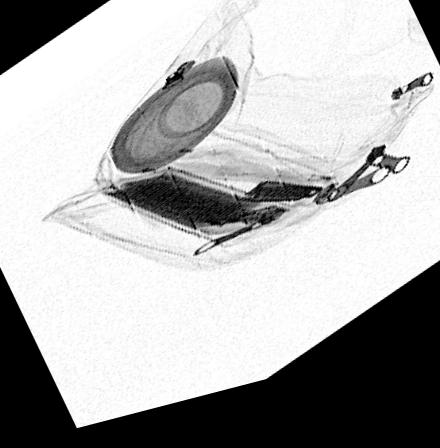Powerbank: (98, 172, 303, 262)
